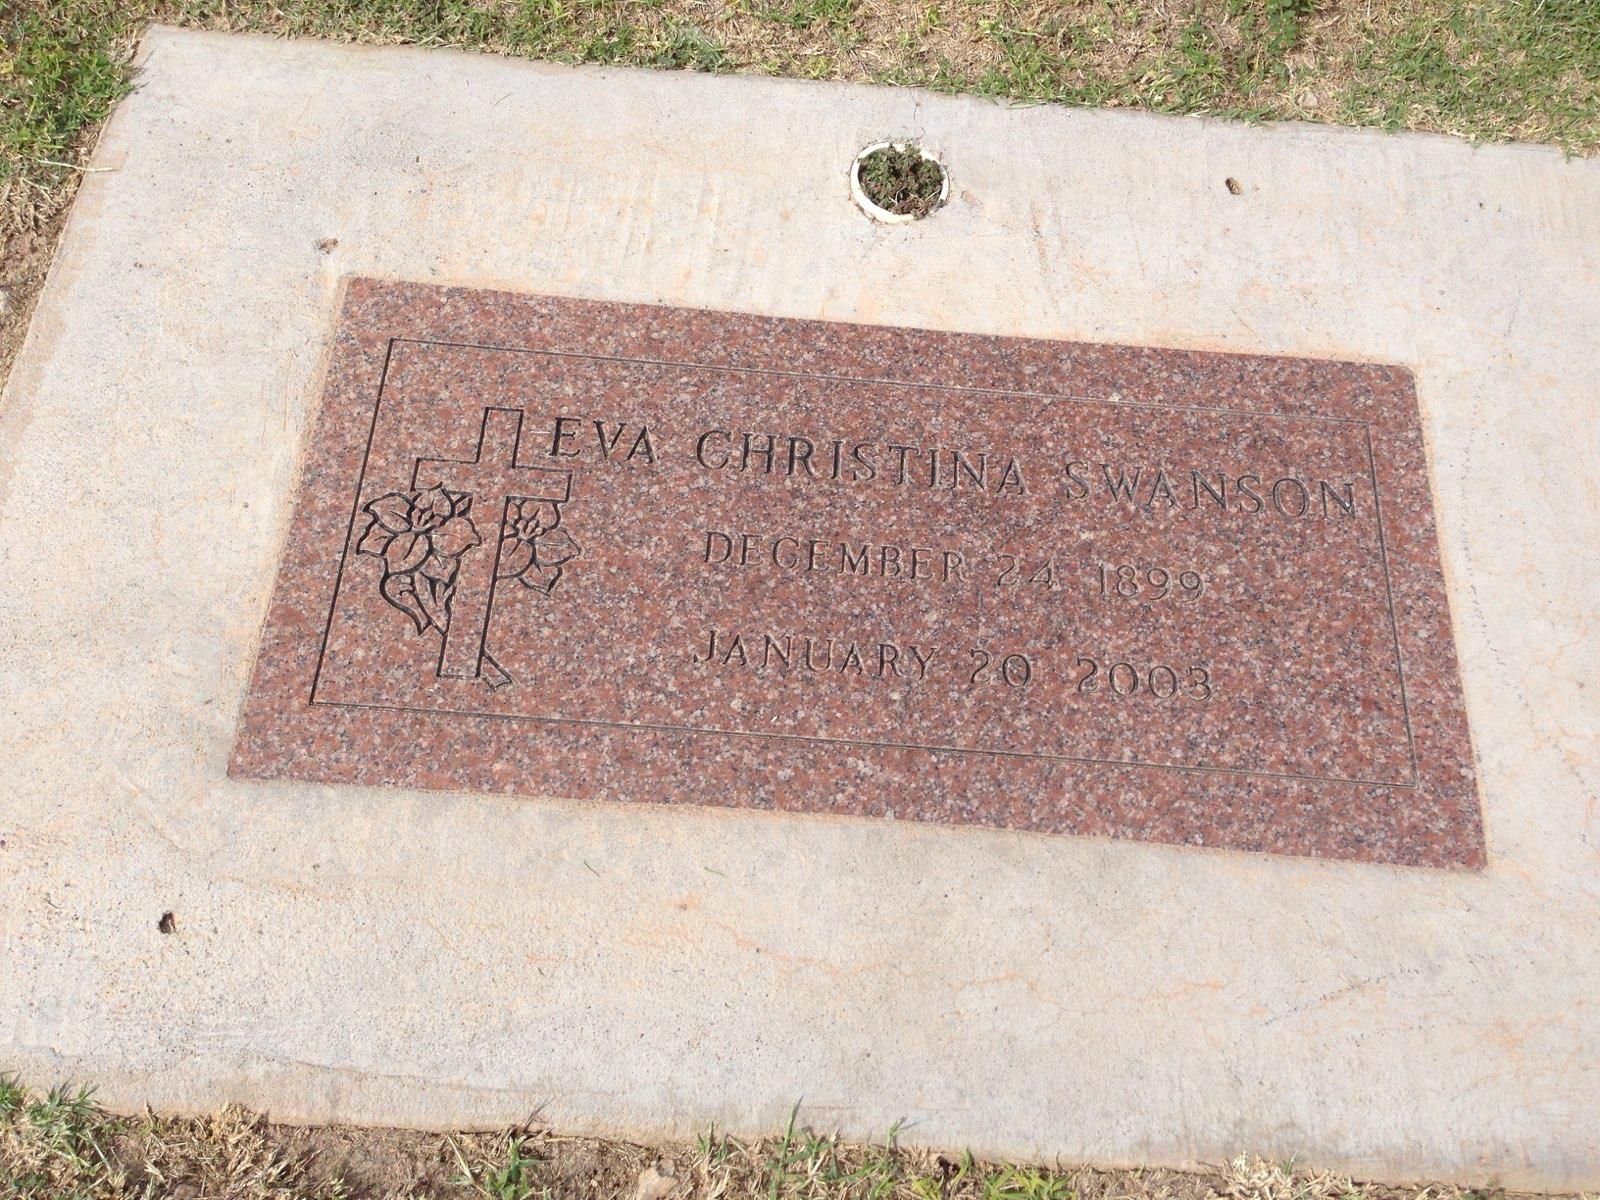flat: (227, 263, 1487, 874)
